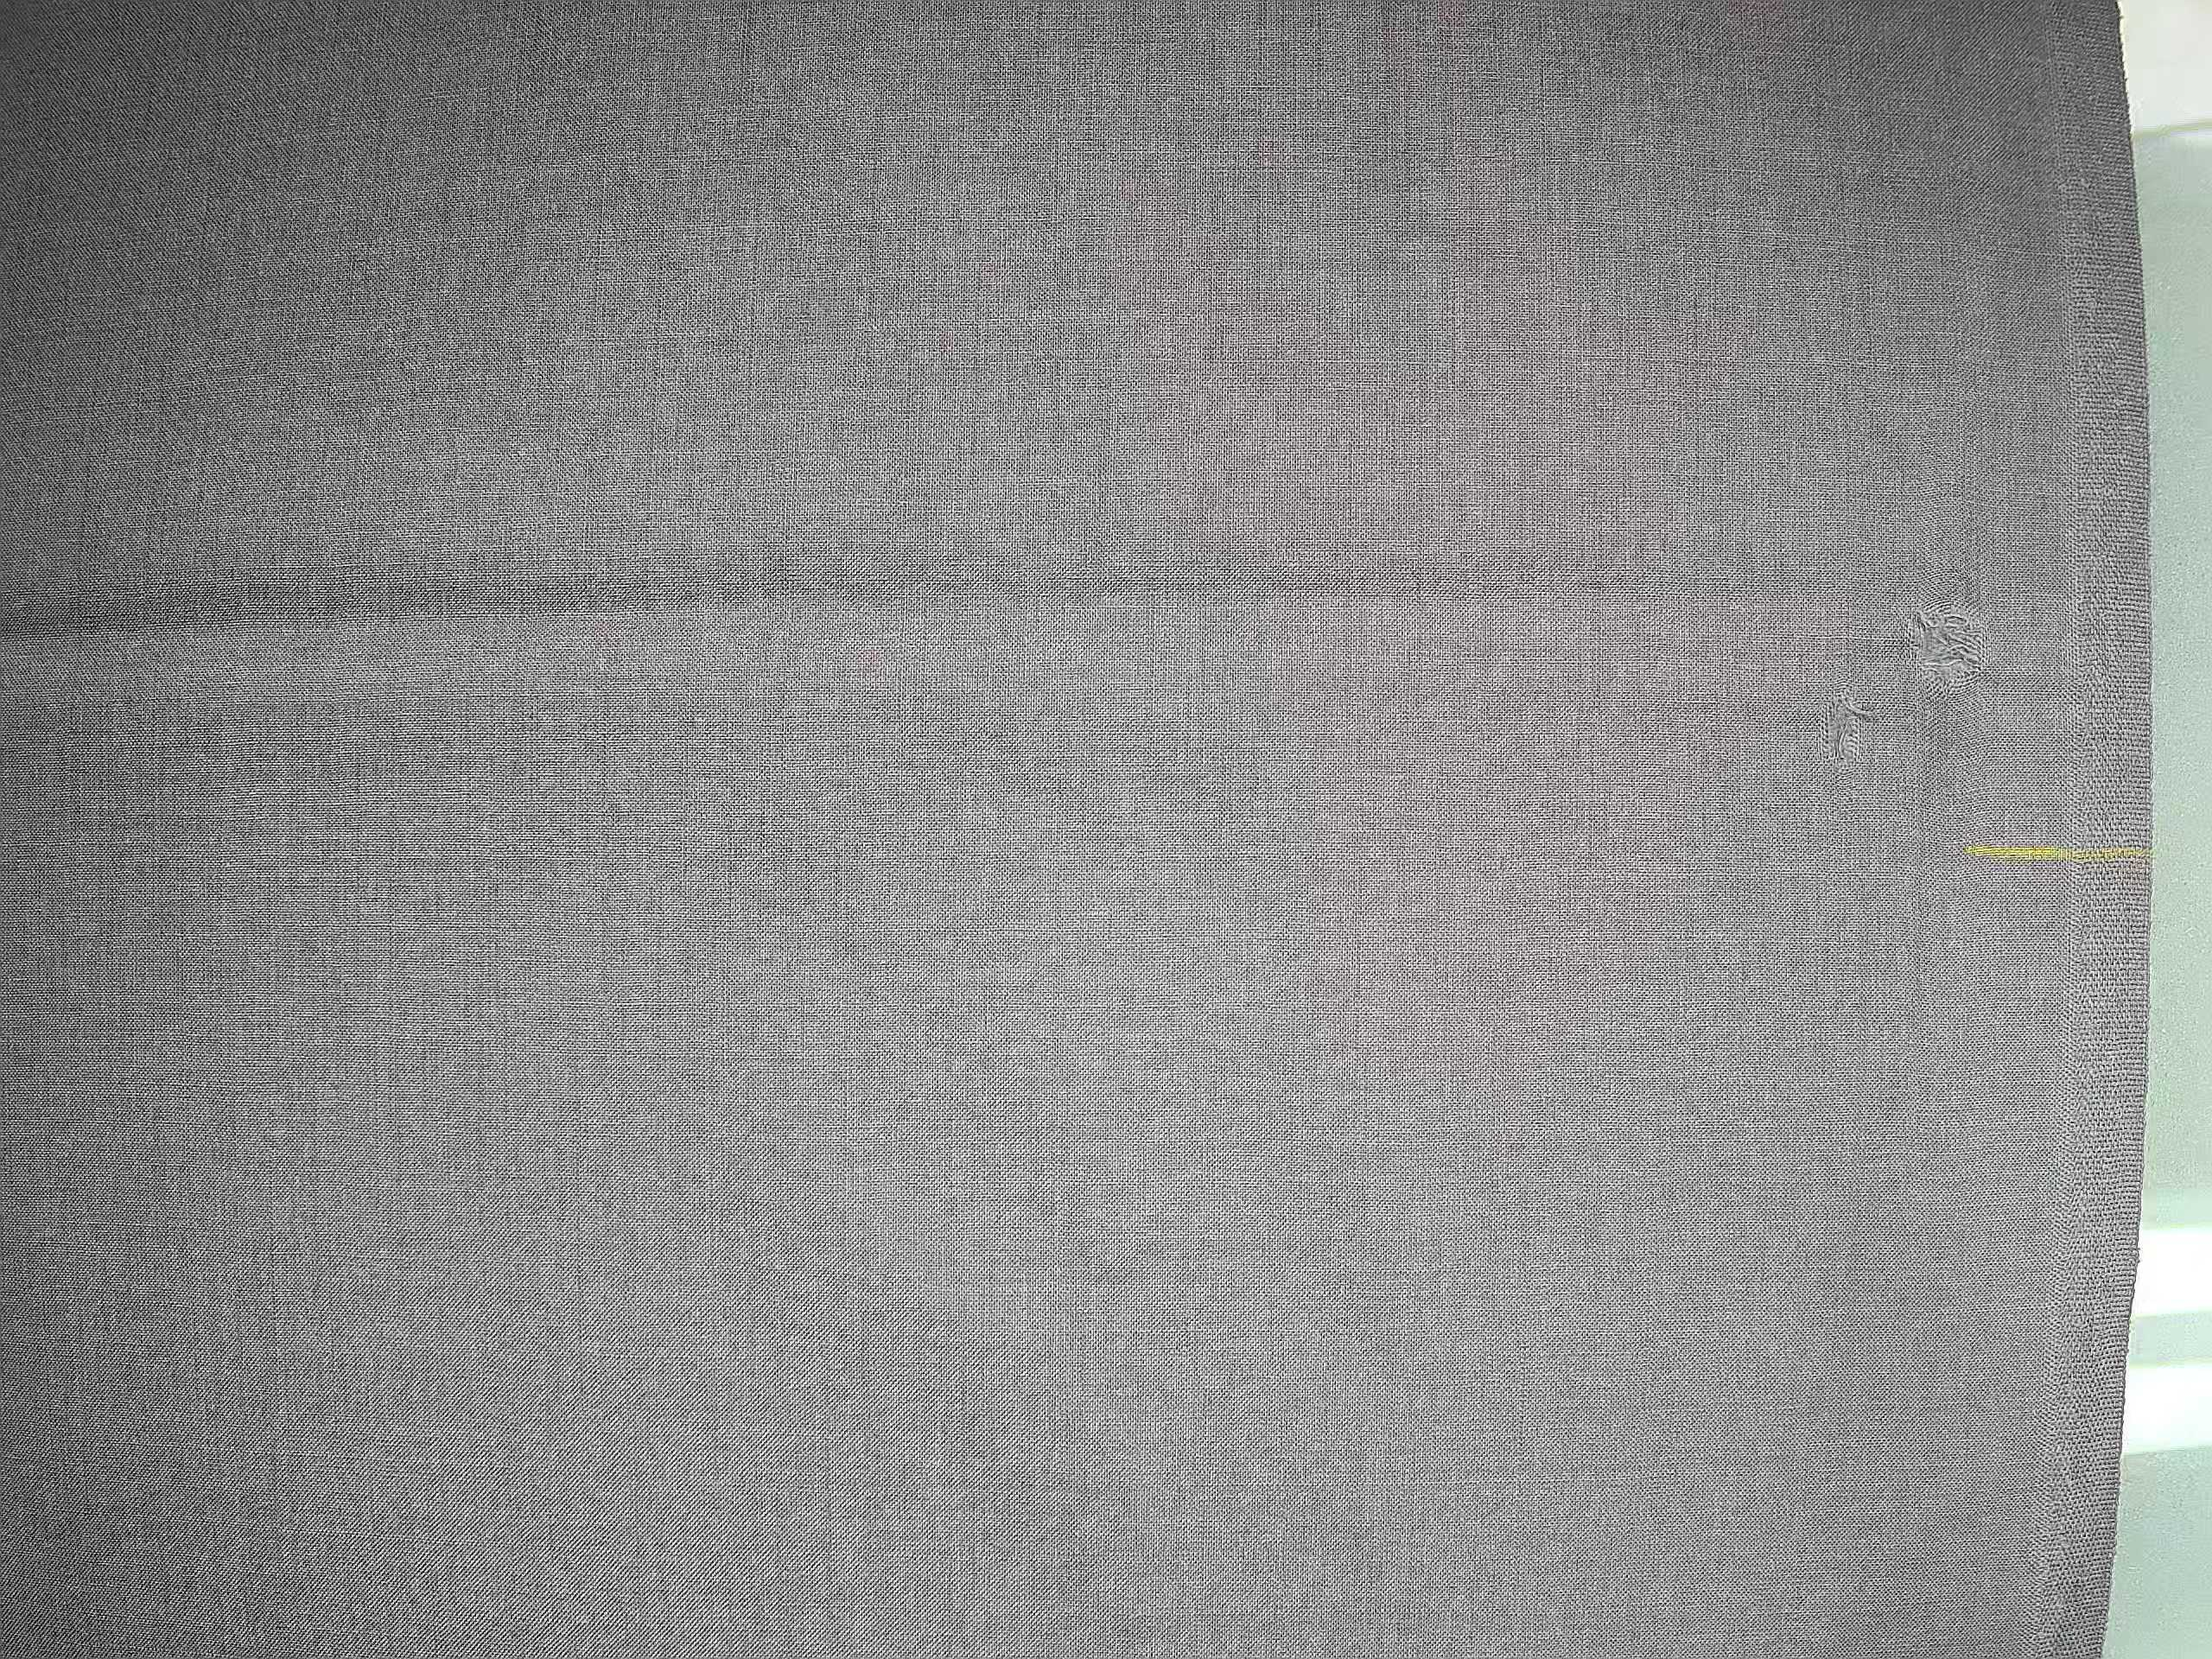rubbing-hole: (1811, 570, 2010, 789)
